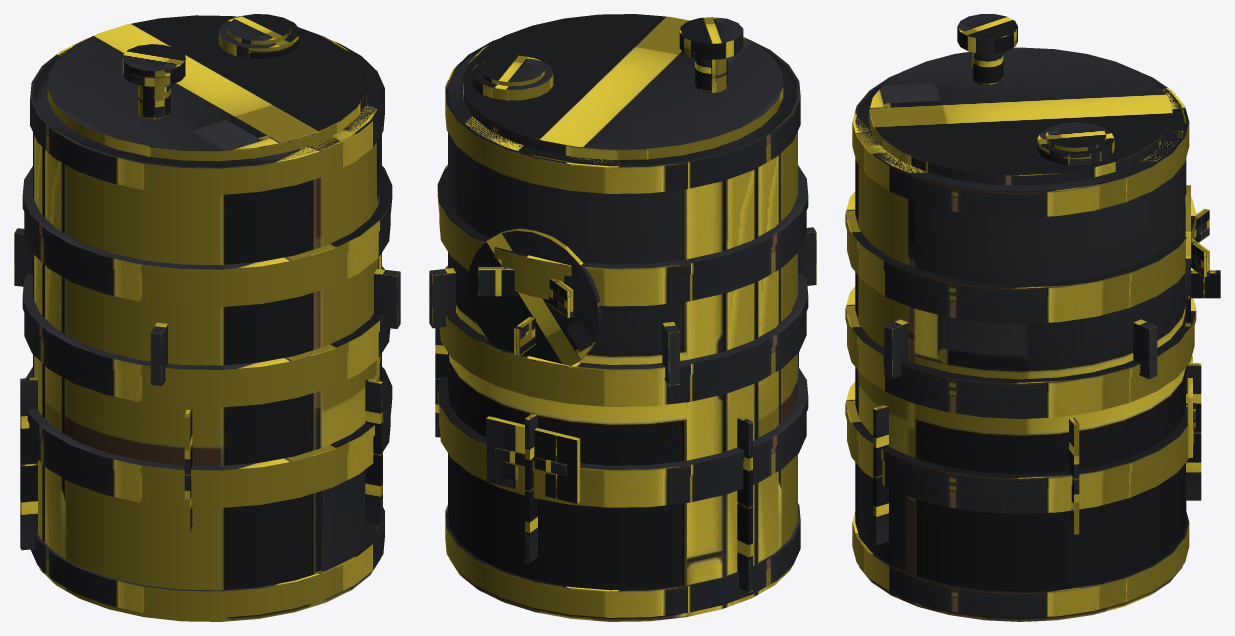
The model's file is PR_barrel_radioactive.glb.
3 views of the same model, side by side, from view 1: azimuth 30°, elevation 25°; view 2: azimuth 150°, elevation 25°; view 3: azimuth 270°, elevation 25° (orthographic). The views are drawn at different scales.
Parts seen in each view (by area): view 1: PR_barrel_radioactive; view 2: PR_barrel_radioactive; view 3: PR_barrel_radioactive.
Boxes of the visible parts, <box> form: PR_barrel_radioactive: <box>14,14,400,621</box>; PR_barrel_radioactive: <box>429,14,816,621</box>; PR_barrel_radioactive: <box>845,14,1220,621</box>.
Bounding box in the file's own units: 0.636 × 0.985 × 0.68.
1 material, 1 textured.
